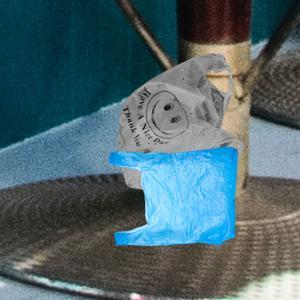plastic_bag: (103, 145, 247, 249)
